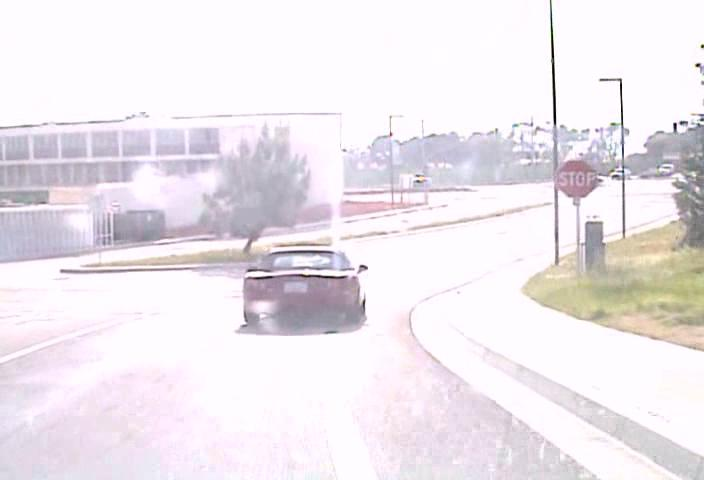stop: (554, 158, 597, 199)
